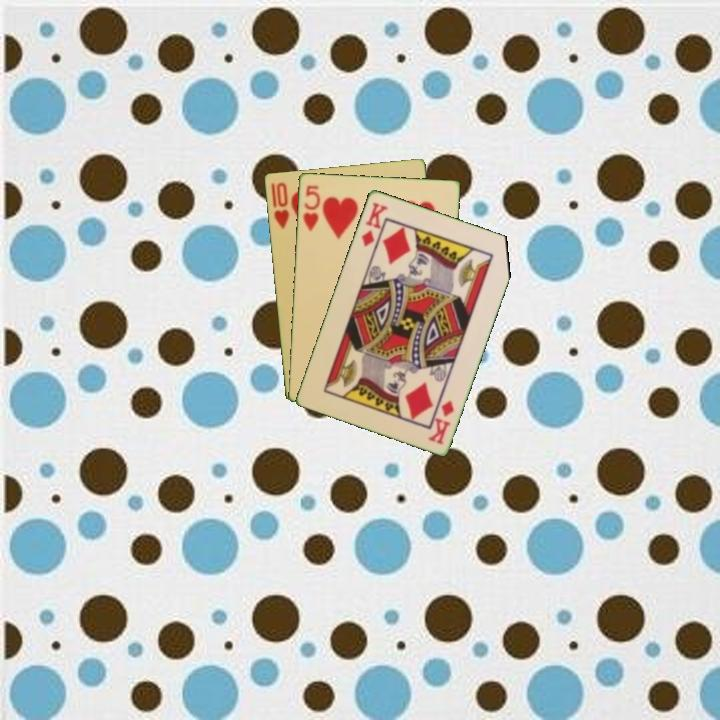10h: (267, 179, 292, 231)
5h: (299, 182, 323, 234)
Kd: (358, 198, 391, 249), (425, 396, 457, 447)
